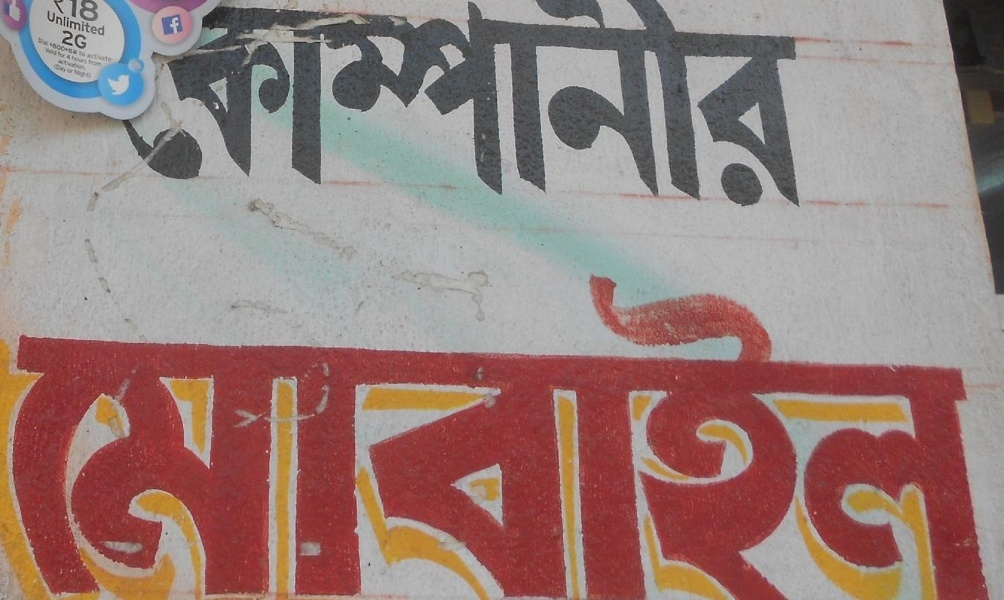text: (977, 246, 993, 599), (17, 246, 32, 599), (33, 246, 48, 599), (49, 246, 64, 599), (65, 246, 80, 599), (81, 246, 96, 599), (97, 246, 112, 599), (113, 246, 128, 599), (129, 246, 144, 599), (145, 246, 160, 599), (161, 246, 176, 599), (177, 246, 192, 599), (193, 246, 208, 599), (209, 246, 224, 599), (225, 246, 240, 599), (241, 246, 256, 599), (257, 246, 272, 599), (273, 246, 288, 599), (289, 246, 304, 599), (305, 246, 320, 599), (321, 246, 336, 599), (337, 246, 352, 599), (353, 246, 368, 599), (369, 246, 384, 599), (385, 246, 400, 599), (401, 246, 416, 599), (417, 246, 432, 599), (433, 246, 448, 599), (449, 246, 464, 599), (465, 246, 480, 599), (481, 246, 496, 599), (497, 246, 512, 599), (513, 246, 528, 599), (529, 246, 544, 599), (545, 246, 560, 599), (561, 246, 576, 599), (577, 246, 592, 599), (593, 246, 608, 599), (609, 246, 624, 599), (625, 246, 640, 599), (641, 246, 656, 599), (657, 246, 672, 599), (673, 246, 688, 599), (689, 246, 704, 599), (705, 246, 720, 599), (721, 246, 736, 599), (737, 246, 752, 599), (753, 246, 768, 599), (769, 246, 784, 599), (785, 246, 800, 599), (801, 246, 816, 599), (817, 246, 832, 599), (833, 246, 848, 599), (849, 246, 864, 599), (865, 246, 880, 599), (881, 246, 896, 599), (897, 246, 912, 599), (913, 246, 928, 599), (929, 246, 944, 599), (945, 246, 960, 599), (961, 246, 976, 599), (129, 1, 144, 215), (145, 1, 160, 215), (161, 1, 176, 215), (177, 1, 192, 215), (193, 1, 208, 215), (209, 1, 224, 215), (225, 1, 240, 215), (241, 1, 256, 215), (257, 1, 272, 215), (273, 1, 288, 215), (289, 1, 304, 215), (305, 1, 320, 215), (321, 1, 336, 215), (337, 1, 352, 215), (353, 1, 368, 215), (369, 1, 384, 215), (385, 1, 400, 215), (401, 1, 416, 215), (417, 1, 432, 215), (433, 1, 448, 215), (449, 1, 464, 215), (465, 1, 480, 215), (481, 1, 496, 215), (497, 1, 512, 215), (513, 1, 528, 215), (529, 1, 544, 215), (545, 1, 560, 215), (561, 1, 576, 215), (577, 1, 592, 215), (593, 1, 608, 215), (609, 1, 624, 215), (625, 1, 640, 215), (641, 1, 656, 215), (657, 1, 672, 215), (673, 1, 688, 215), (689, 1, 704, 215), (705, 1, 720, 215), (721, 1, 736, 215), (737, 1, 752, 215), (753, 1, 768, 215), (769, 1, 784, 215), (785, 1, 800, 215), (801, 1, 810, 215), (122, 1, 128, 215), (14, 246, 16, 599), (33, 35, 48, 81), (49, 35, 64, 81), (65, 35, 80, 81), (81, 35, 96, 81), (97, 35, 112, 81), (49, 10, 64, 37), (65, 10, 80, 37), (81, 10, 96, 37), (65, 1, 80, 23), (81, 1, 96, 23), (65, 30, 80, 50), (97, 10, 106, 37), (53, 1, 64, 23), (27, 35, 32, 81), (81, 30, 89, 50), (113, 35, 116, 81), (45, 10, 48, 37), (61, 30, 64, 50), (97, 1, 99, 23)
